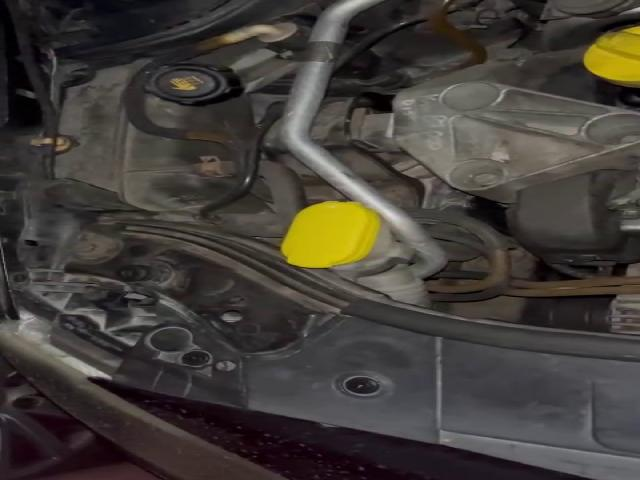antifreeze_tank: (55, 59, 256, 212)
